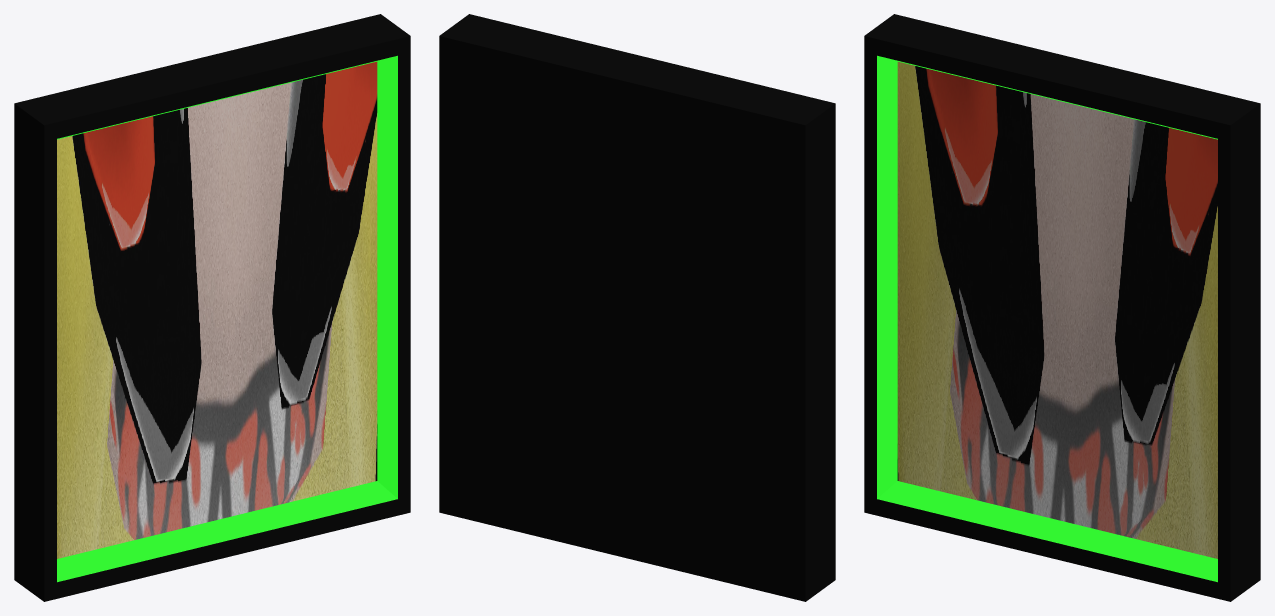
File: PictureFrame5.glb
The picture shows the model from 3 angles, left to right: view 1: azimuth 30°, elevation 25°; view 2: azimuth 150°, elevation 25°; view 3: azimuth 330°, elevation 25°; orthographic projection.
Visible parts, largest first — view 1: Cube.137; view 2: Cube.137; view 3: Cube.137.
Boxes of the visible parts, box(x1,y1,x2,y2) form: Cube.137: box(14, 14, 410, 601); Cube.137: box(439, 14, 835, 601); Cube.137: box(864, 14, 1260, 601).
Size of the model in its own units: 2.94 by 3.66 by 0.4176.
3 materials, 1 textured.
